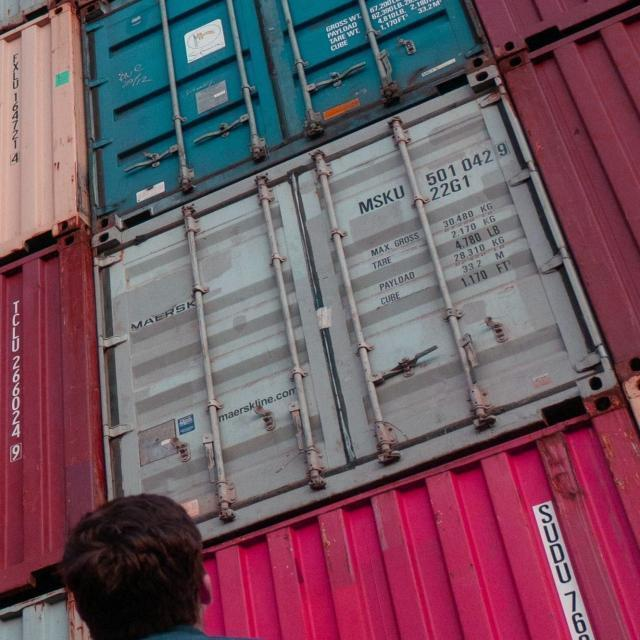ISO: (428, 173, 470, 210)
container_number: (352, 136, 510, 214)
